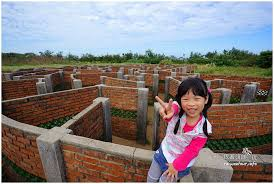people: (149, 78, 210, 184)
